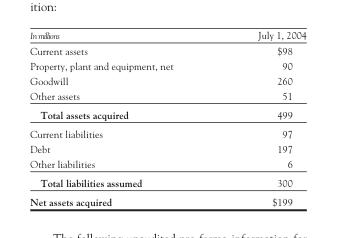table: (29, 28, 305, 207)
table column: (29, 28, 215, 207), (215, 28, 305, 207)
table column header: (29, 28, 305, 42)
table row: (29, 104, 305, 123), (29, 172, 305, 191), (29, 87, 305, 104), (29, 123, 305, 140), (29, 155, 305, 172), (29, 191, 305, 207), (29, 42, 305, 57), (29, 57, 305, 72), (29, 72, 305, 87), (29, 140, 305, 155), (29, 28, 305, 42)
